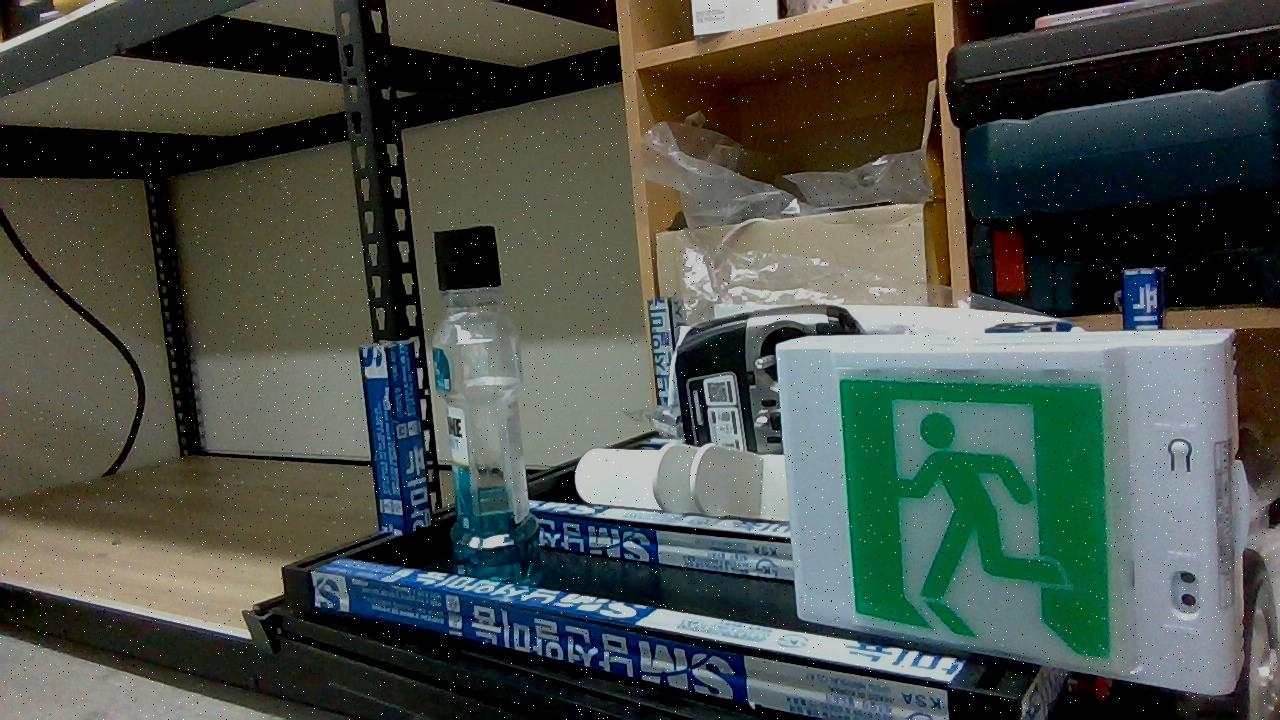emergency_exit: (774, 326, 1248, 697)
